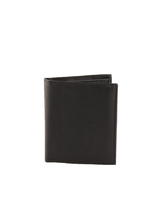other: (39, 74, 123, 171)
